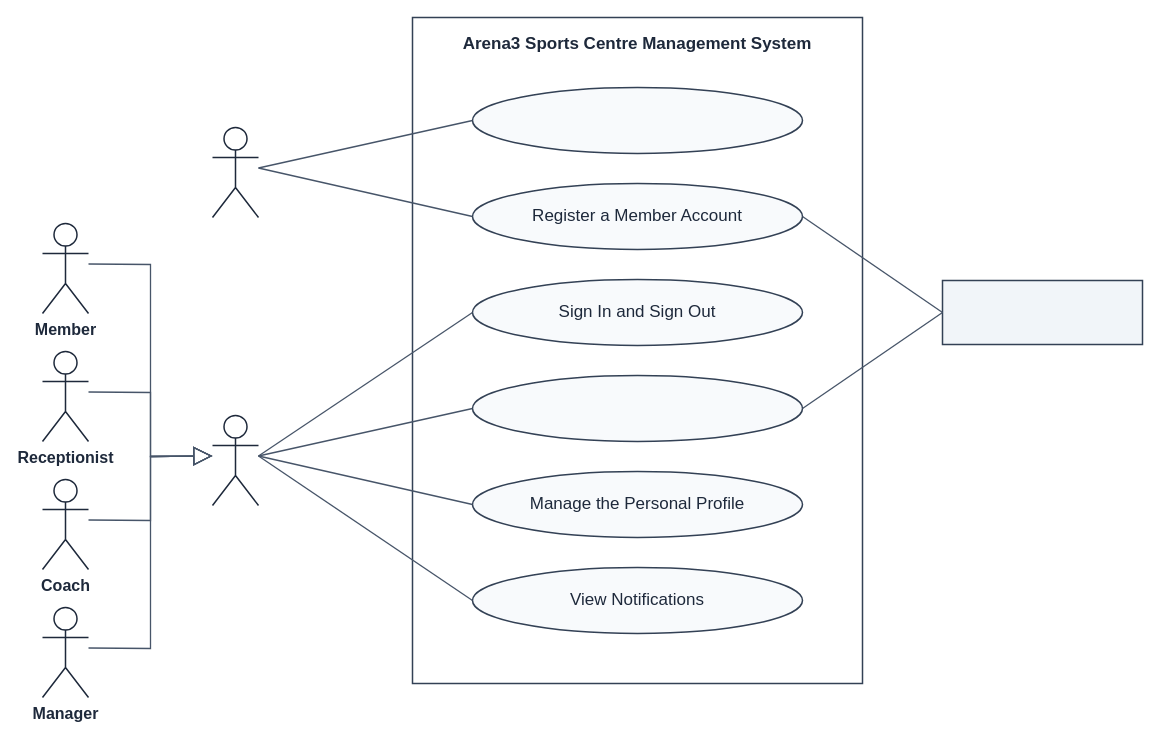
This 1160x741 diagram has some shape labels left out. The shapes that lost their labels are listed below. From the top down, each one's centre as x and y in pixels, then its label:
At pixel 637 120: "Browse Courts, Classes and Prices".
At pixel 235 172: "Guest".
At pixel 1042 312: "«actor» Mail delivery (SMTP)".
At pixel 637 408: "Reset a Forgotten Password".
At pixel 235 460: "Registered User".
